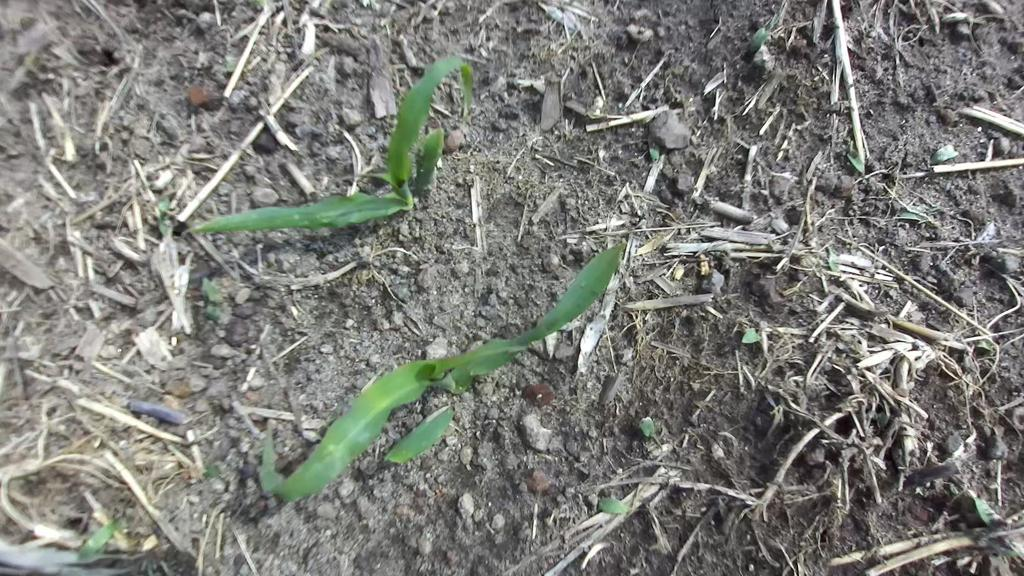BroWeed: (72, 514, 126, 568), (959, 488, 1011, 537), (197, 273, 227, 323), (636, 414, 663, 452), (926, 141, 961, 168), (154, 195, 174, 236), (899, 208, 935, 229), (598, 497, 638, 514), (739, 324, 765, 350), (972, 334, 999, 359), (643, 133, 663, 165), (846, 148, 868, 174), (212, 53, 238, 74), (909, 202, 943, 216), (825, 245, 841, 272), (458, 445, 474, 471), (203, 461, 221, 480)
Maize: (230, 214, 663, 535), (180, 48, 517, 322)
